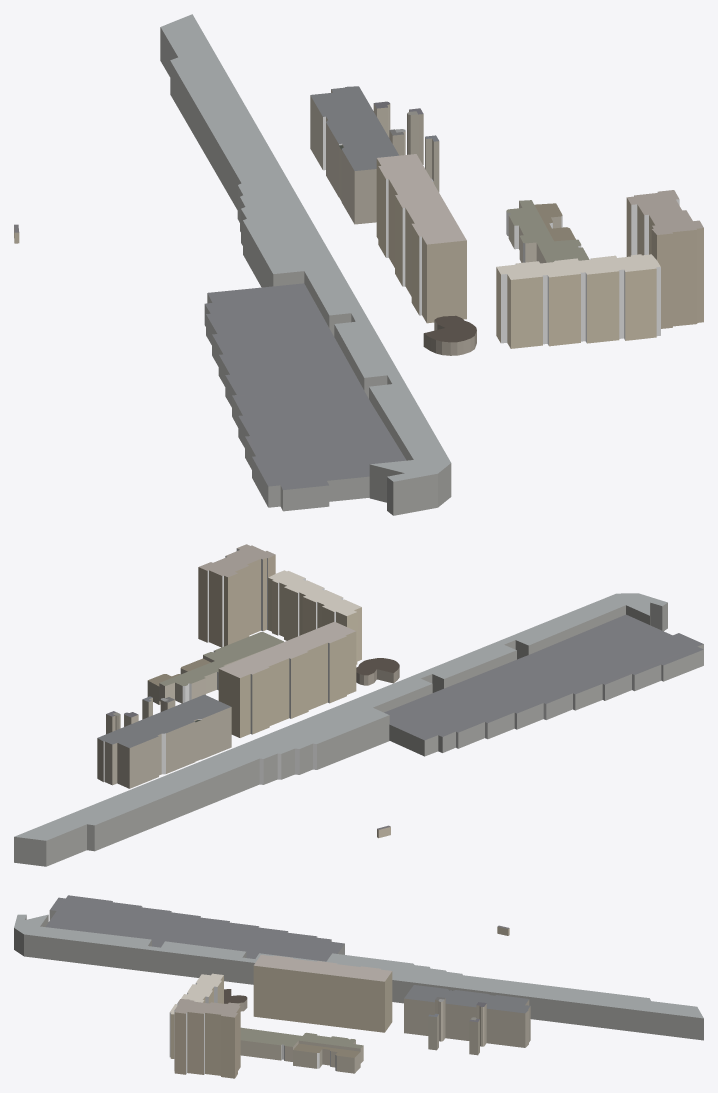
3 renders of one model, top to bottom at view 1: azimuth 30°, elevation 25°; view 2: azimuth 150°, elevation 25°; view 3: azimuth 270°, elevation 25°, orthographic. The views are drawn at different scales.
Parts seen in each view (by area): view 1: tuile; view 2: tuile; view 3: tuile.
Boxes of the visible parts, x1=… form: tuile: x1=14, y1=14, x2=703, y2=515; tuile: x1=14, y1=544, x2=703, y2=866; tuile: x1=14, y1=895, x2=703, y2=1078.
Size of the model in its own units: 256 by 45.31 by 441.
